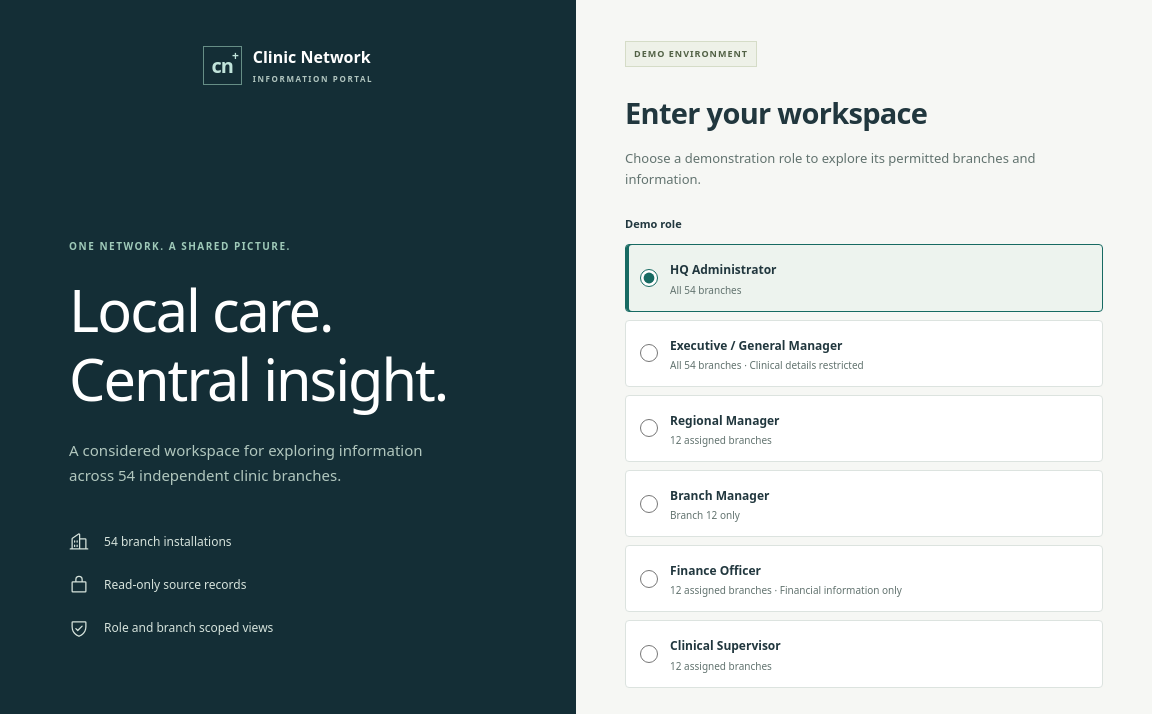
Test: critical portal journeys › uses local persona login without passwords and supports sign out
Expected: the field labelled "password" is not shown
Click the radio button labelled "Finance Officer".
click(649, 579)  # box [640,570,658,588]
(page scrolled)
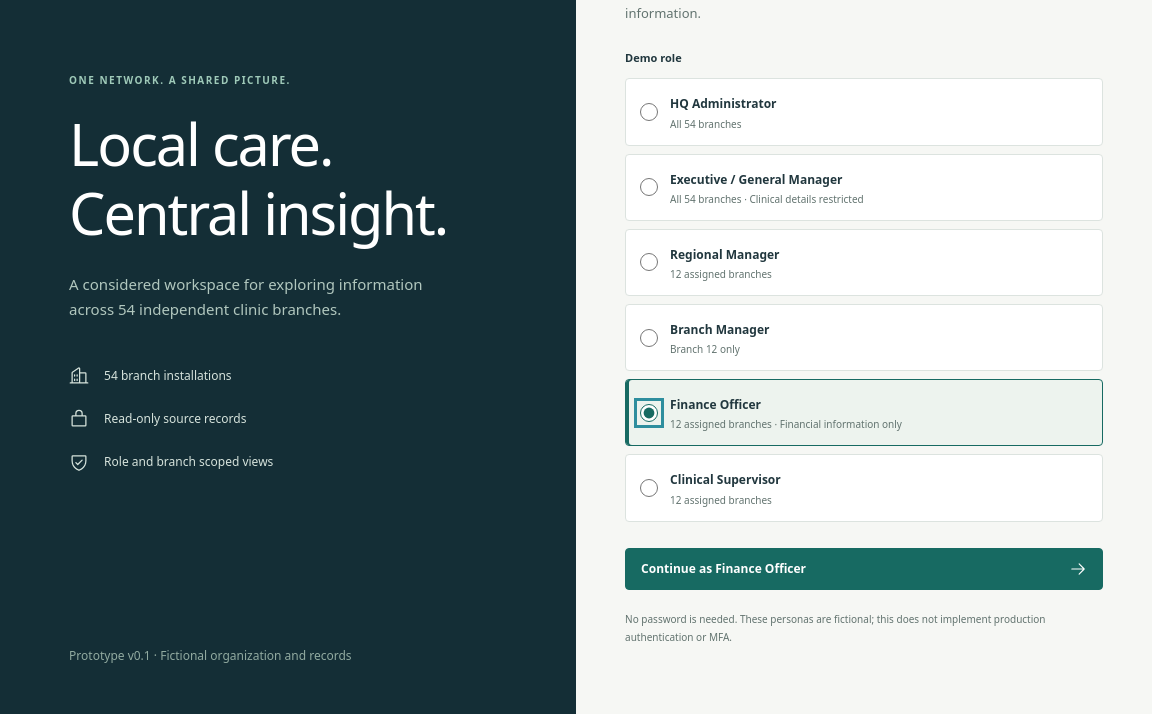
Click the button "Continue as Finance Officer".
click(678, 568)  # box [625,548,1103,590]
(page scrolled)
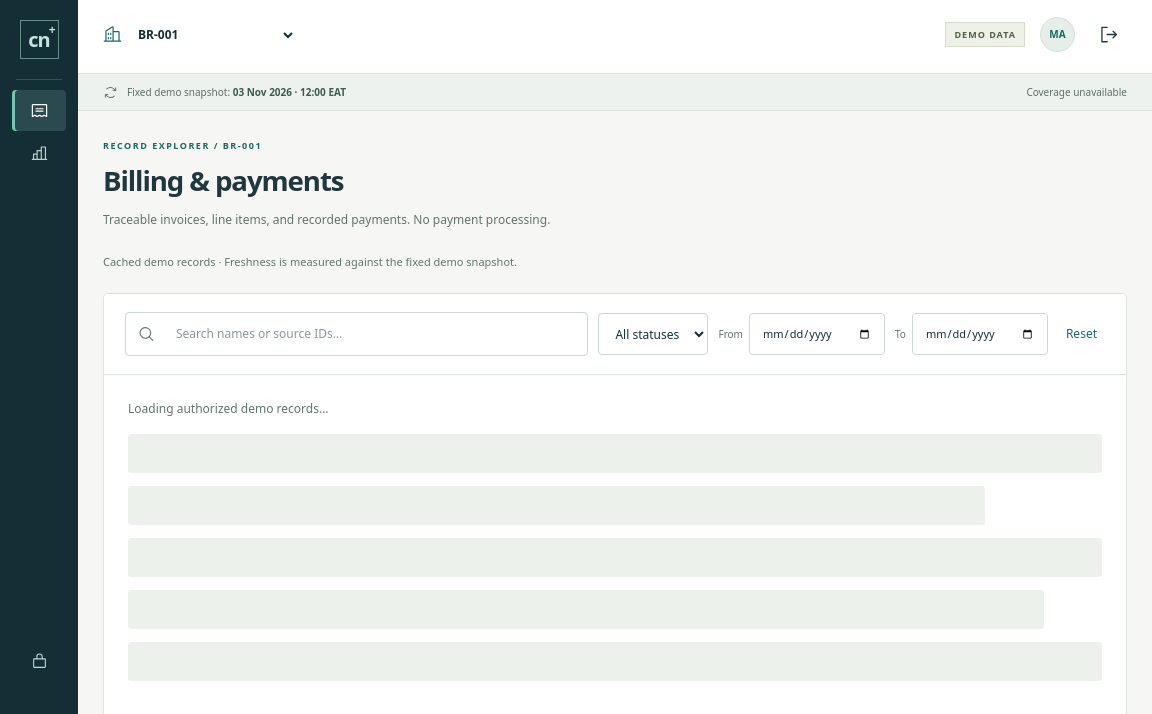
Now the heading "Billing & payments" is shown, box [103,161,343,199]
Click the button named "Sign out or switch demo role".
click(1108, 34)  # box [1090,16,1127,53]
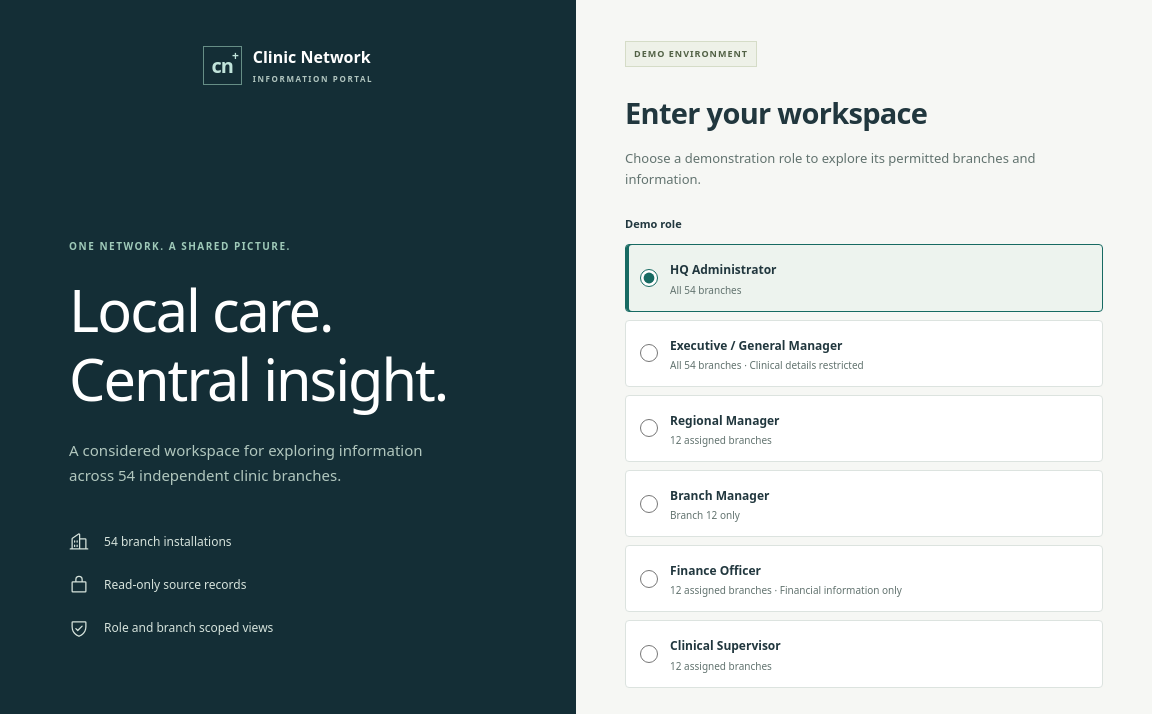
Now the heading "Enter your workspace" is shown, box [625,92,927,132]
